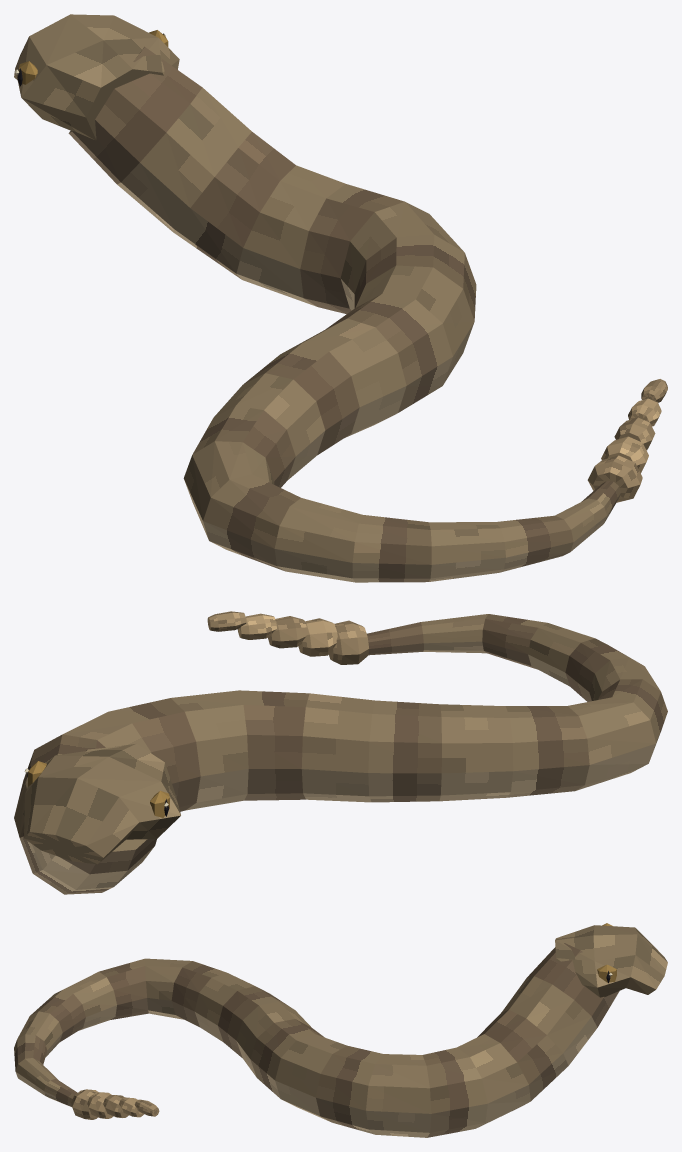
Rendered from mon_rattlesnake.glb.
3 renders of one model, top to bottom at view 1: azimuth 30°, elevation 25°; view 2: azimuth 150°, elevation 25°; view 3: azimuth 270°, elevation 25°, orthographic. The views are drawn at different scales.
Visible parts, largest first — view 1: closed_body; view 2: closed_body; view 3: closed_body.
Part boxes in pixels (x1,y1,x2,y2): closed_body: (14, 14, 667, 582); closed_body: (14, 611, 667, 894); closed_body: (14, 923, 667, 1137).
Bounding box in the file's own units: 0.2969 × 0.1354 × 0.5429.
1 material, 1 textured.
